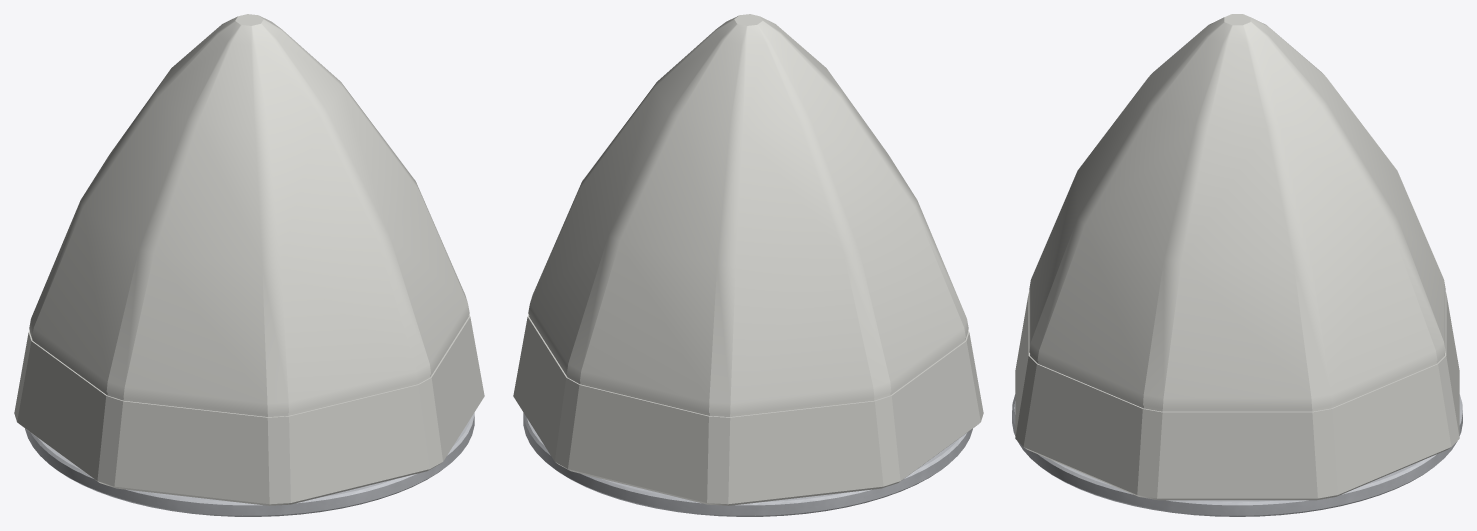
Rendered from ax_struct_13_nose_cone_l.glb.
3 views of the same model, side by side, from view 1: azimuth 30°, elevation 25°; view 2: azimuth 150°, elevation 25°; view 3: azimuth 270°, elevation 25° (orthographic).
Parts seen in each view (by area): view 1: nose_shell, base_ring; view 2: nose_shell, base_ring; view 3: nose_shell, base_ring.
Boxes of the visible parts, box(x1,y1,x2,y2) form: nose_shell: box(14, 14, 484, 505); base_ring: box(25, 412, 474, 516); nose_shell: box(513, 14, 983, 505); base_ring: box(523, 412, 972, 516); nose_shell: box(1015, 14, 1459, 500); base_ring: box(1012, 394, 1462, 516).
Bounding box in the file's own units: 3.75 × 3.7 × 3.75.
2 materials, 1 textured.
